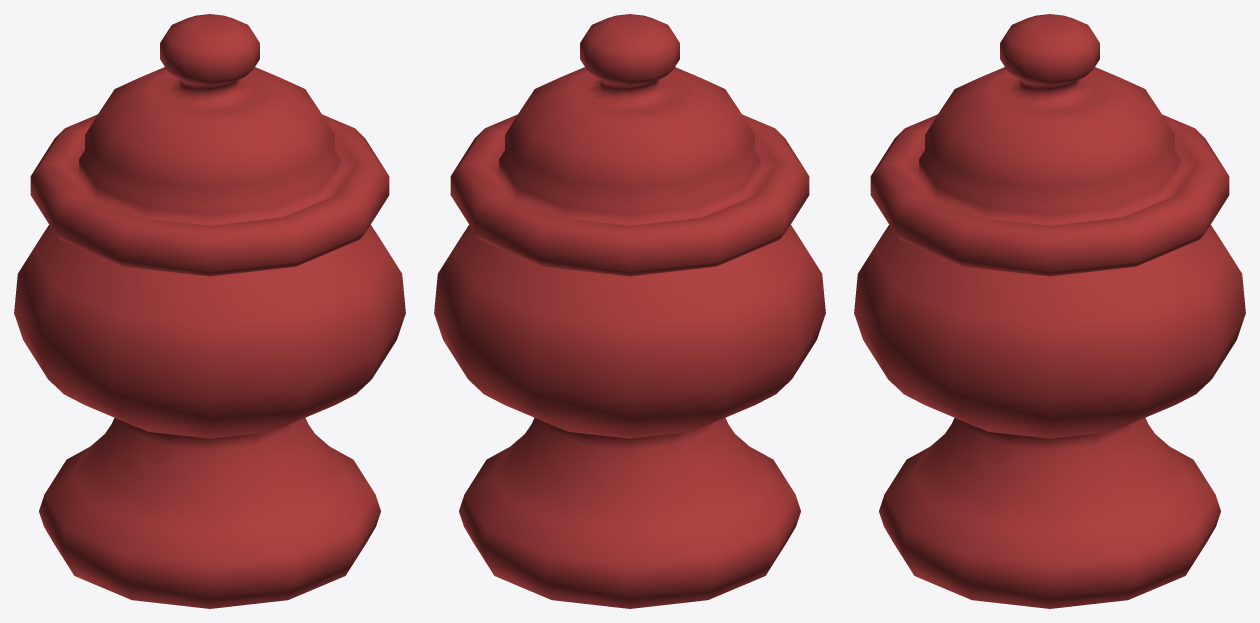
The model's file is st2_bowl_02_low.fbx.
3 renders of one model, left to right at view 1: azimuth 30°, elevation 25°; view 2: azimuth 150°, elevation 25°; view 3: azimuth 270°, elevation 25°, orthographic.
Parts seen in each view (by area): view 1: stage2_bowl_02_low; view 2: stage2_bowl_02_low; view 3: stage2_bowl_02_low.
Part boxes in pixels (x1,y1,x2,y2): stage2_bowl_02_low: (14,14,405,608); stage2_bowl_02_low: (434,14,825,608); stage2_bowl_02_low: (854,14,1245,608).
Size of the model in its own units: 452 by 660 by 452.
